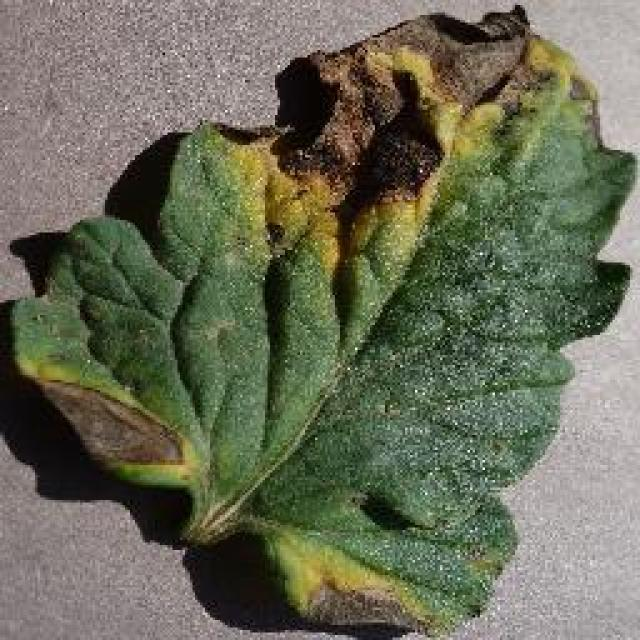Tomato___Early_blight: (4, 6, 638, 634)
